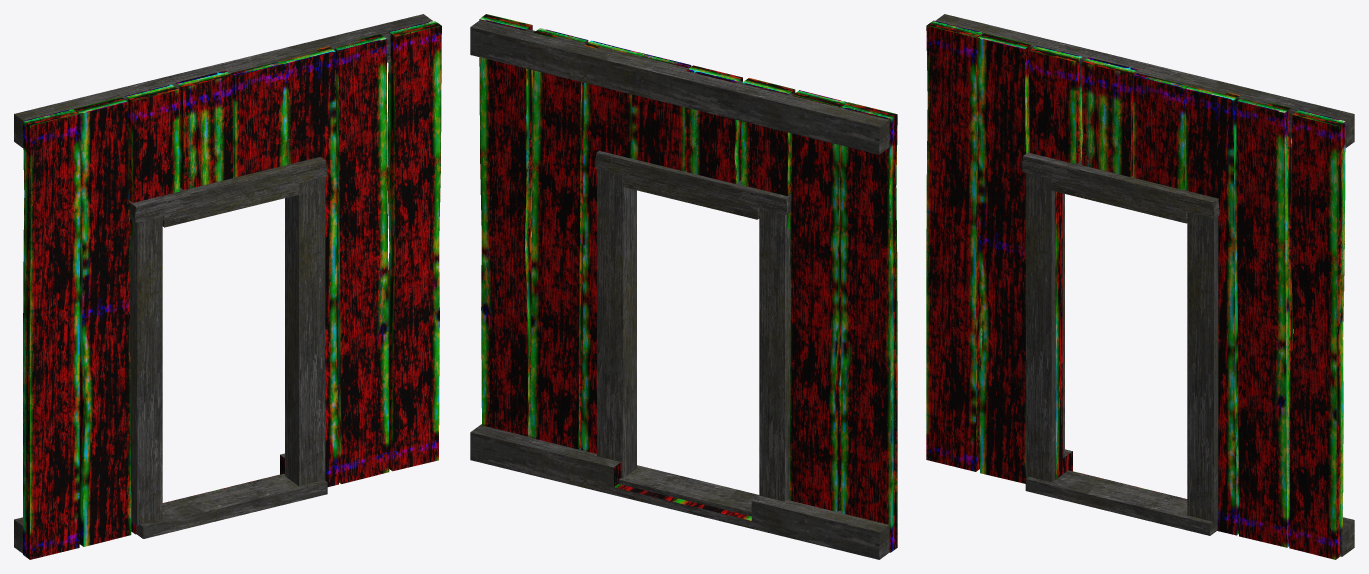
The model's file is SM_PlankWall_WallFrame1.fbx.
The picture shows the model from 3 angles, left to right: view 1: azimuth 30°, elevation 25°; view 2: azimuth 150°, elevation 25°; view 3: azimuth 330°, elevation 25°; orthographic projection.
Parts seen in each view (by area): view 1: SM_PlankWall_WallFrame1_LOD0; view 2: SM_PlankWall_WallFrame1_LOD0; view 3: SM_PlankWall_WallFrame1_LOD0.
Boxes of the visible parts, x1,y1,x2,y2 form: SM_PlankWall_WallFrame1_LOD0: (14,14,441,559); SM_PlankWall_WallFrame1_LOD0: (470,14,897,559); SM_PlankWall_WallFrame1_LOD0: (926,14,1354,559).
Bounding box in the file's own units: 299 × 30.38 × 302.
